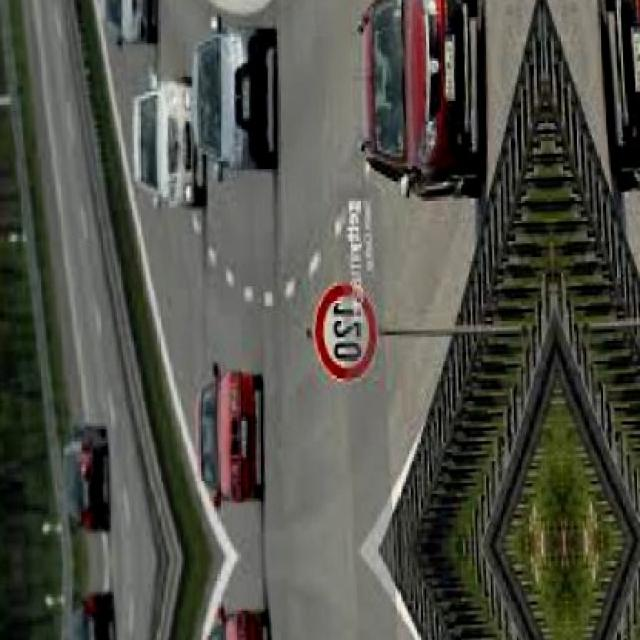forb_speed_over_120: (310, 283, 382, 385)
